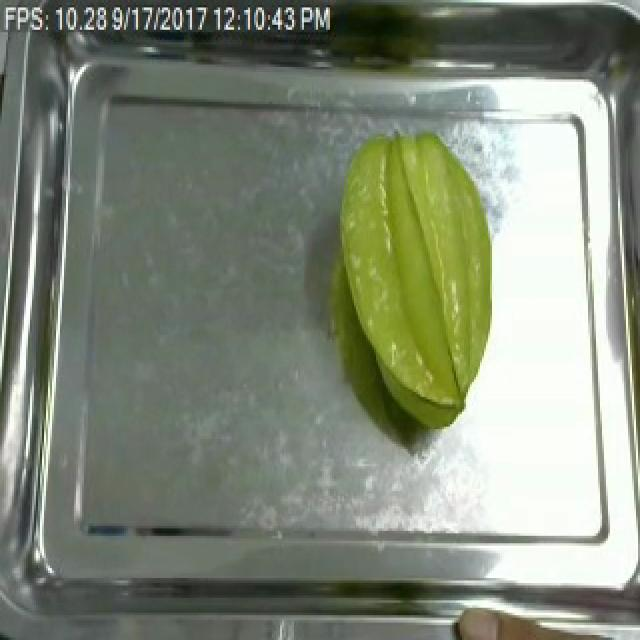fruit: (328, 124, 502, 437)
